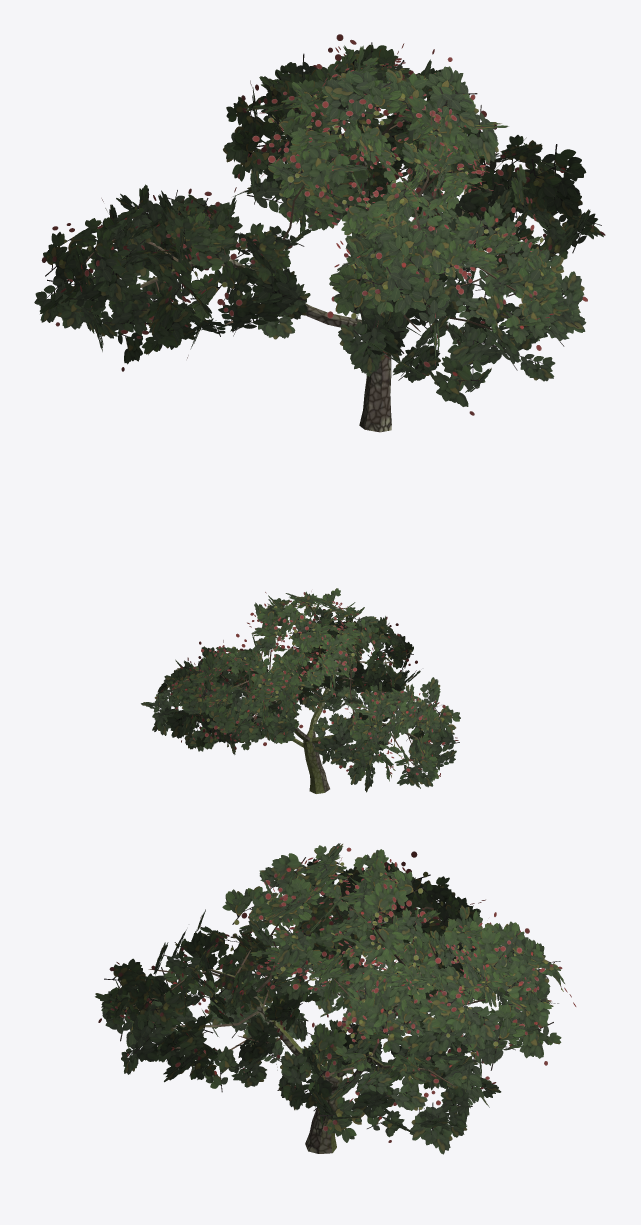
File: fruit_tree.glb
The picture shows the model from 3 angles, top to bottom: view 1: azimuth 30°, elevation 25°; view 2: azimuth 150°, elevation 25°; view 3: azimuth 270°, elevation 25°; orthographic projection. The views are drawn at different scales.
Visible parts, largest first — view 1: fruit_tree_cards_LOD0, fruit_tree_LOD0; view 2: fruit_tree_cards_LOD0, fruit_tree_LOD0; view 3: fruit_tree_cards_LOD0, fruit_tree_LOD0.
Boxes of the visible parts, x1=… form: fruit_tree_cards_LOD0: x1=34, y1=34, x2=605, y2=415; fruit_tree_LOD0: x1=69, y1=110, x2=532, y2=432; fruit_tree_cards_LOD0: x1=141, y1=588, x2=460, y2=792; fruit_tree_LOD0: x1=173, y1=604, x2=433, y2=793; fruit_tree_cards_LOD0: x1=95, y1=843, x2=576, y2=1154; fruit_tree_LOD0: x1=133, y1=894, x2=533, y2=1153.
Size of what is drawn, in the model's own units: 10.1 by 4.97 by 8.71.
2 materials, 2 textured.
